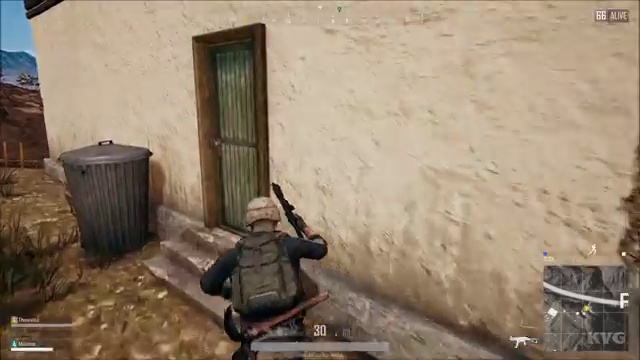Player: (202, 177, 350, 323)
